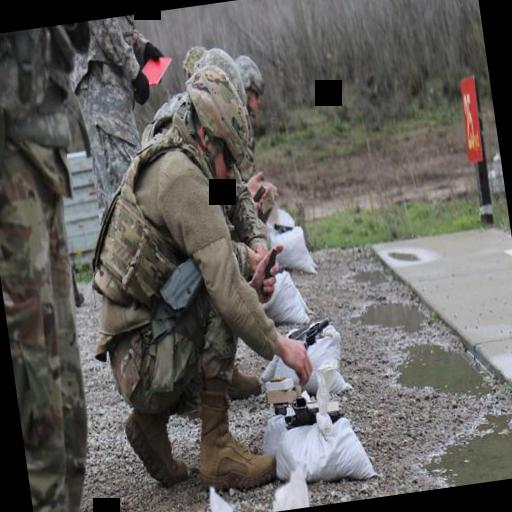Handgun: (284, 309, 336, 354)
